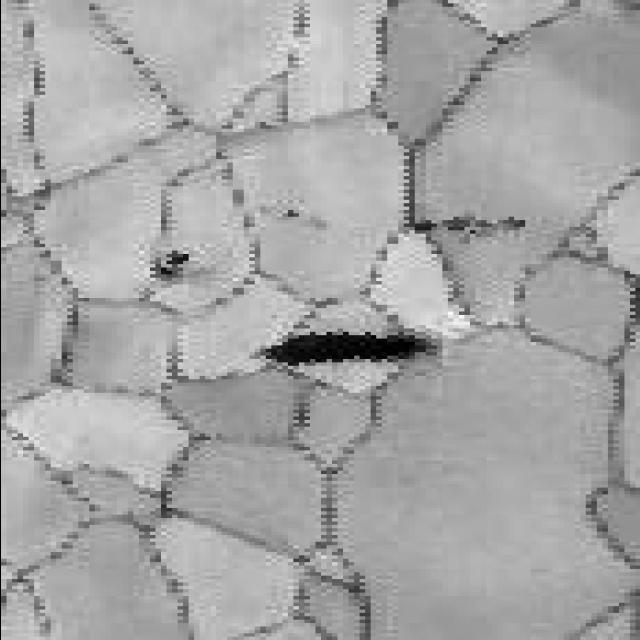good_void: (260, 327, 437, 367), (442, 216, 519, 243), (140, 246, 192, 284), (395, 217, 437, 239), (281, 205, 304, 221)
